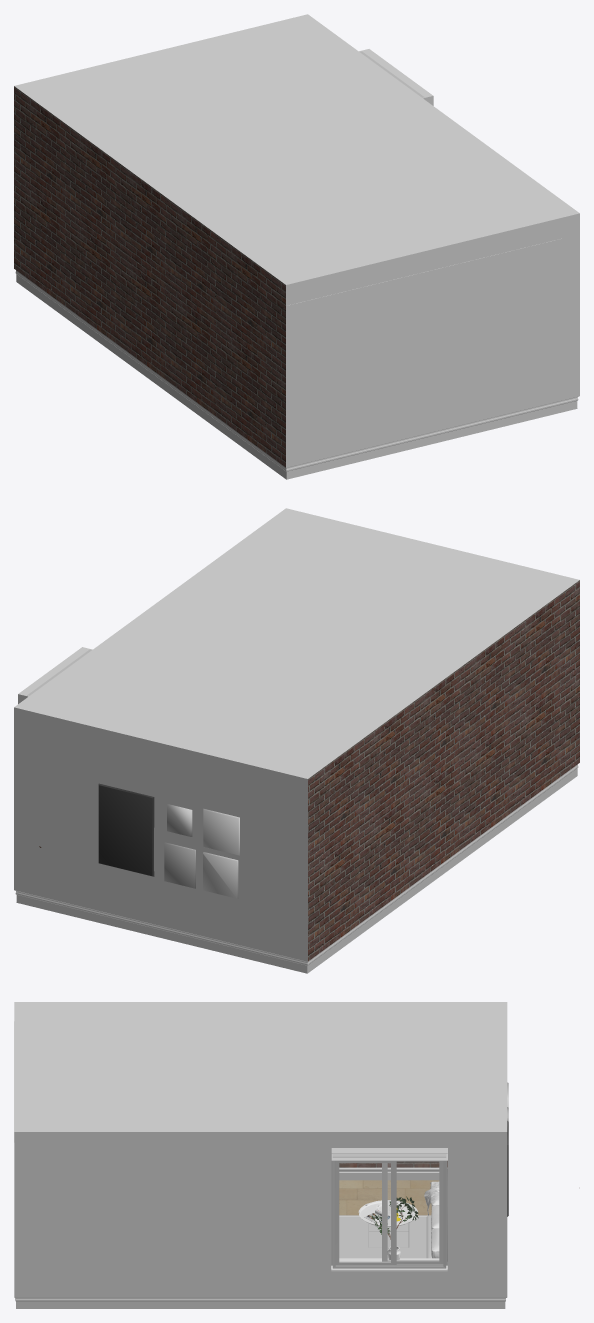
Rendered from interior.glb.
The picture shows the model from 3 angles, top to bottom: view 1: azimuth 30°, elevation 25°; view 2: azimuth 150°, elevation 25°; view 3: azimuth 270°, elevation 25°; orthographic projection. The views are drawn at different scales.
Visible parts, largest first — view 1: Interior_scene_complete:house1_Interior_scene_complete:aiSta (×2); view 2: Interior_scene_complete:house1_Interior_scene_complete:aiSta (×2), Interior_scene_complete:roof_Interior_scene_complete:aiStand; view 3: Interior_scene_complete:house1_Interior_scene_complete:aiSta (×2), Interior_scene_complete:polySurface115_Interior_scene_comple, Interior_scene_complete:roof_Interior_scene_complete:aiStand, Interior_scene_complete:matress_Interior_scene_complete:aiSt.
Part boxes in pixels (x1=…): Interior_scene_complete:house1_Interior_scene_complete:aiSta (×2): x1=14, y1=14, x2=579, y2=479; Interior_scene_complete:house1_Interior_scene_complete:aiSta (×2): x1=14, y1=508, x2=579, y2=973; Interior_scene_complete:roof_Interior_scene_complete:aiStand: x1=27, y1=649, x2=239, y2=898; Interior_scene_complete:house1_Interior_scene_complete:aiSta (×2): x1=14, y1=1002, x2=507, y2=1308; Interior_scene_complete:polySurface115_Interior_scene_comple: x1=340, y1=1162, x2=438, y2=1261; Interior_scene_complete:roof_Interior_scene_complete:aiStand: x1=14, y1=1021, x2=508, y2=1271; Interior_scene_complete:matress_Interior_scene_complete:aiSt: x1=339, y1=1200, x2=431, y2=1258.
Size of the model in its own units: 65.92 by 38.29 by 111.
22 materials, 21 textured.
